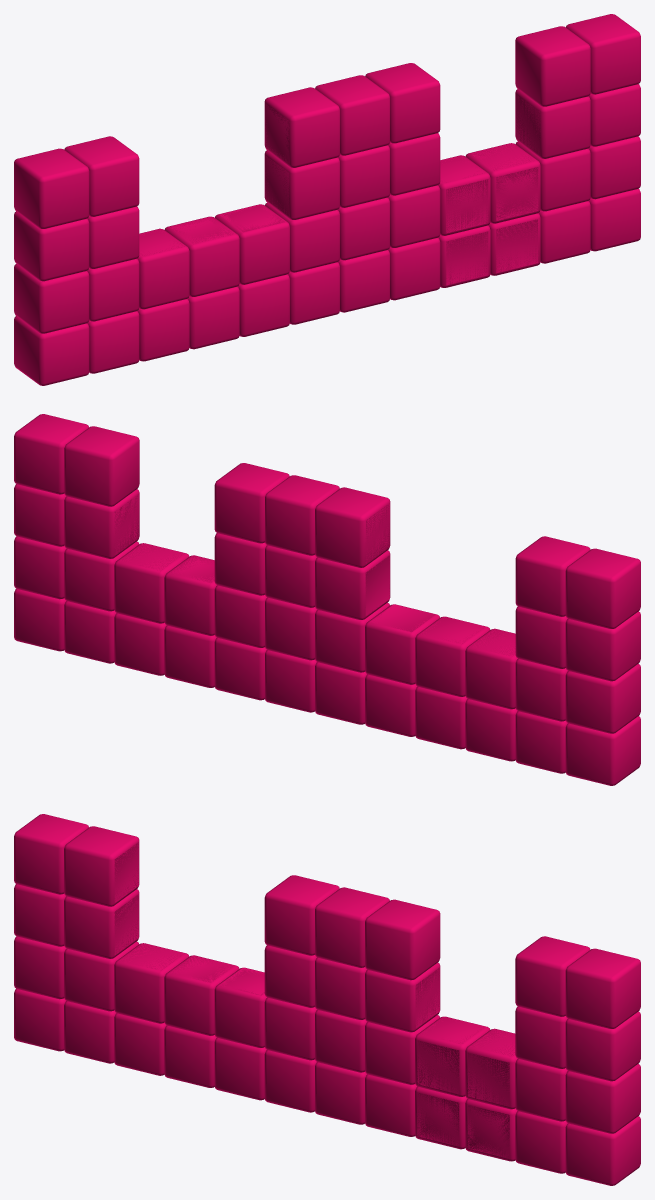
File: obstacle-wallS2.glb
3 renders of one model, top to bottom at view 1: azimuth 30°, elevation 25°; view 2: azimuth 150°, elevation 25°; view 3: azimuth 330°, elevation 25°, orthographic.
Visible parts, largest first — view 1: Object_7; view 2: Object_7; view 3: Object_7.
Boxes of the visible parts, x1=… form: Object_7: x1=14, y1=14, x2=640, y2=385; Object_7: x1=14, y1=414, x2=640, y2=785; Object_7: x1=14, y1=814, x2=640, y2=1185.
Size of the model in its own units: 50.43 by 16.76 by 4.2.
